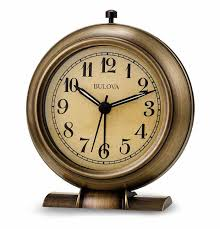alarm_clock: (19, 10, 193, 208)
